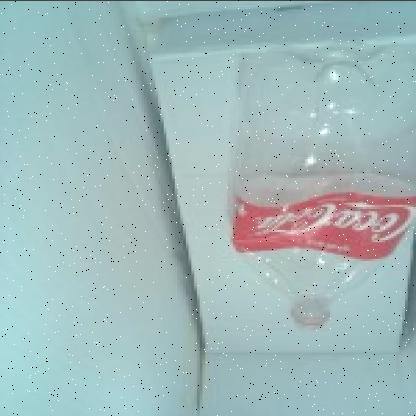Plastic Bottle: (233, 32, 416, 328)
